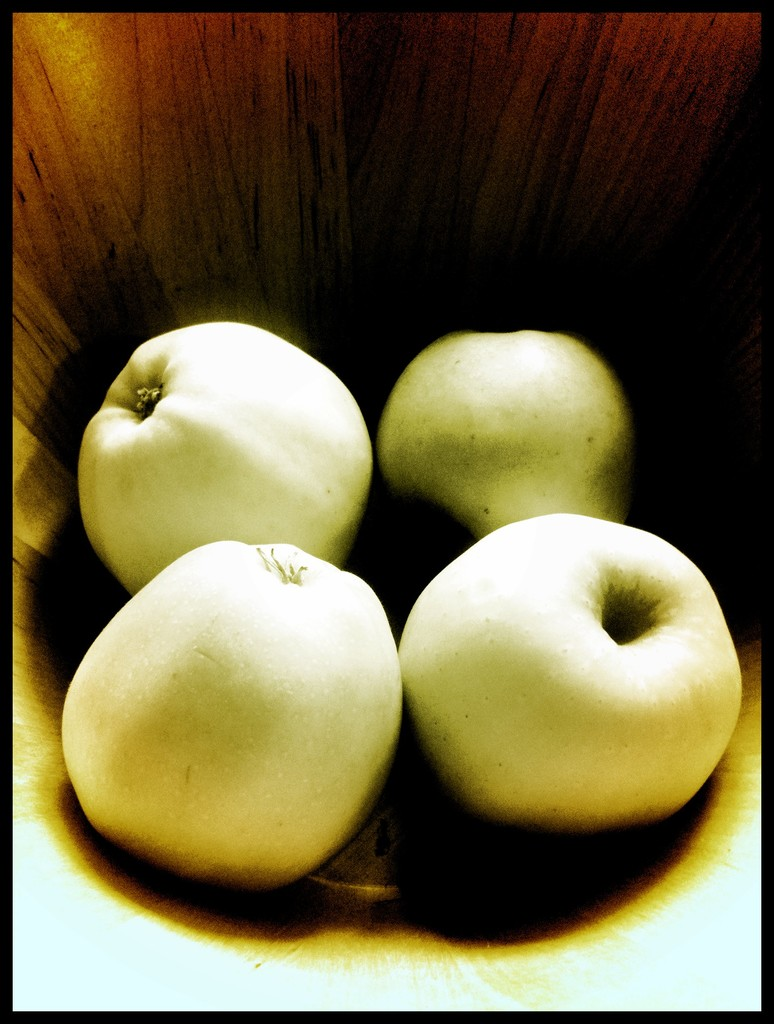Apple: (373, 524, 771, 864), (55, 537, 407, 890), (74, 318, 373, 595), (372, 329, 635, 539)
